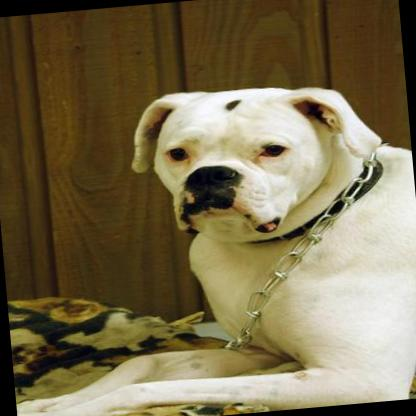boxer: (0, 70, 416, 416)
